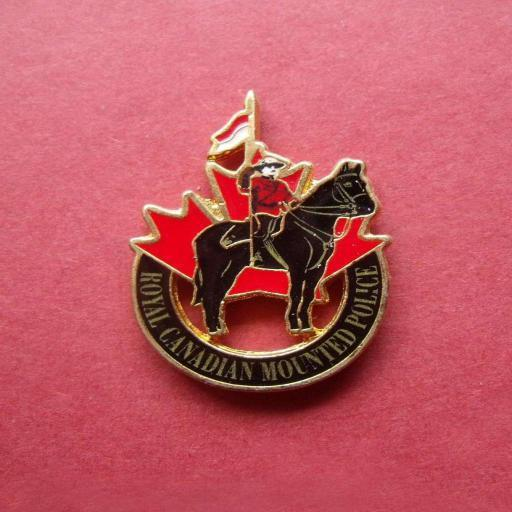horse: (192, 158, 376, 335)
